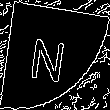N_N: (34, 27, 76, 83)
